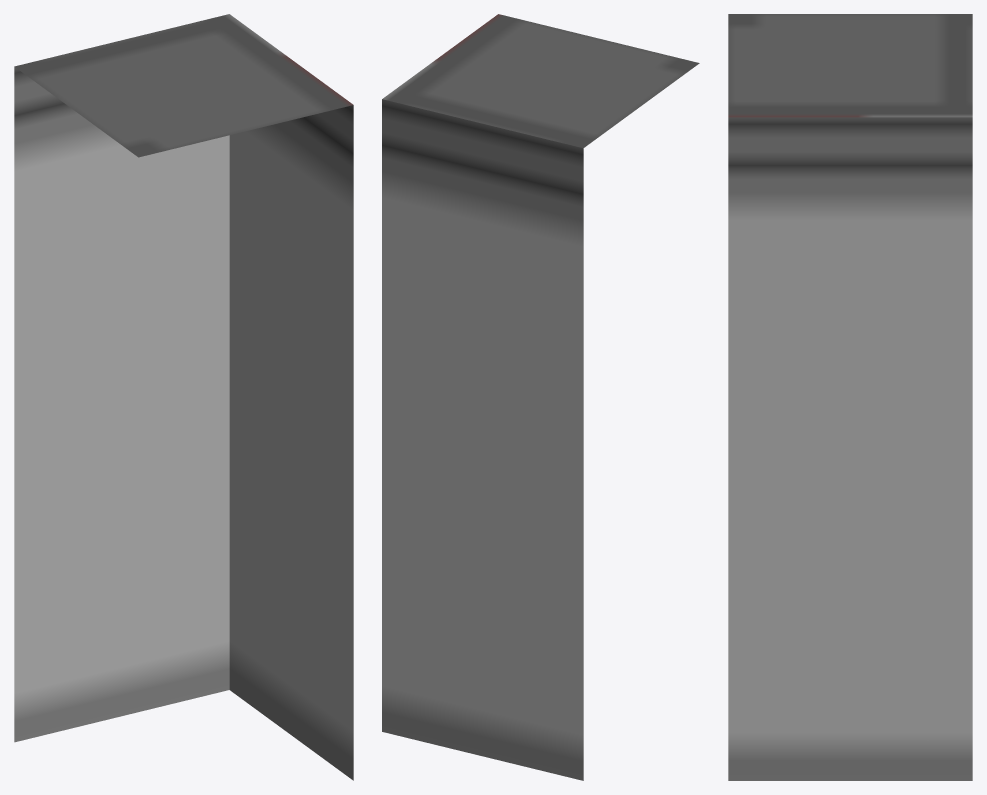
File: Wall_SW.fbx
The picture shows the model from 3 angles, left to right: view 1: azimuth 30°, elevation 25°; view 2: azimuth 150°, elevation 25°; view 3: azimuth 270°, elevation 25°; orthographic projection. The views are drawn at different scales.
Parts seen in each view (by area): view 1: Wall_SW; view 2: Wall_SW; view 3: Wall_SW.
Part boxes in pixels (box(x1,y1,x2,y2)): Wall_SW: box(14, 14, 353, 780); Wall_SW: box(382, 14, 699, 780); Wall_SW: box(728, 14, 972, 780).
Size of the model in its own units: 100 by 300 by 100.
